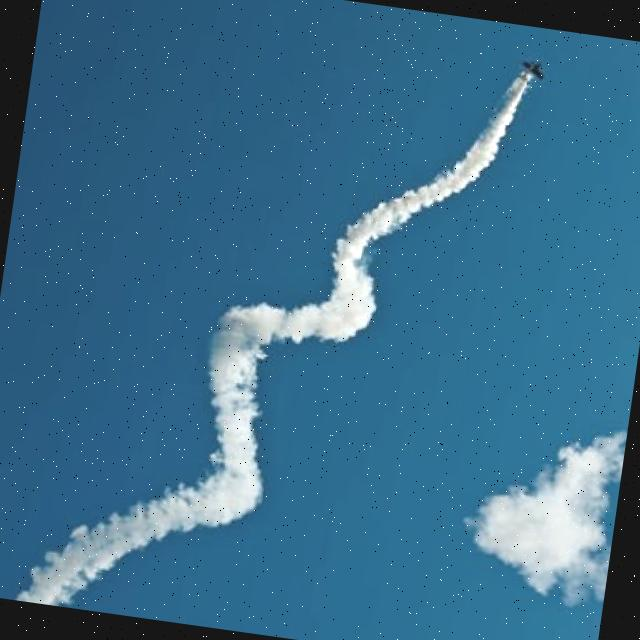Ct: (1, 1, 552, 640)
